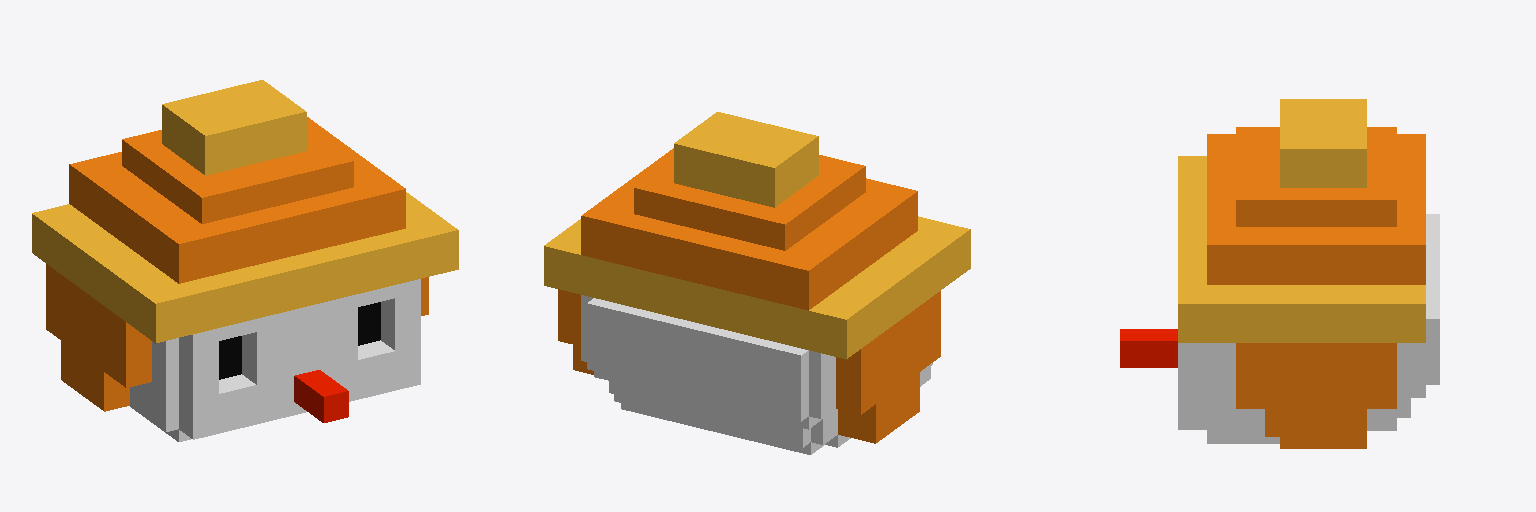
The picture shows the model from 3 angles: view 1: azimuth 30°, elevation 25°; view 2: azimuth 150°, elevation 25°; view 3: azimuth 270°, elevation 25°; orthographic projection.
Size of the model in its own units: 24 by 20 by 22.
1 materials, 1 textured.